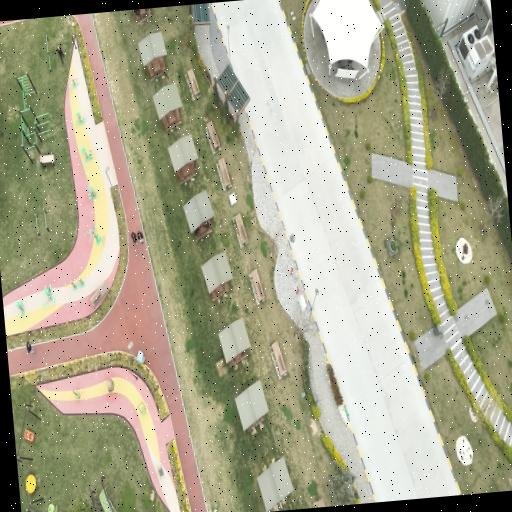person: (56, 46, 63, 64), (26, 341, 33, 353), (137, 231, 143, 242), (131, 232, 136, 245)
